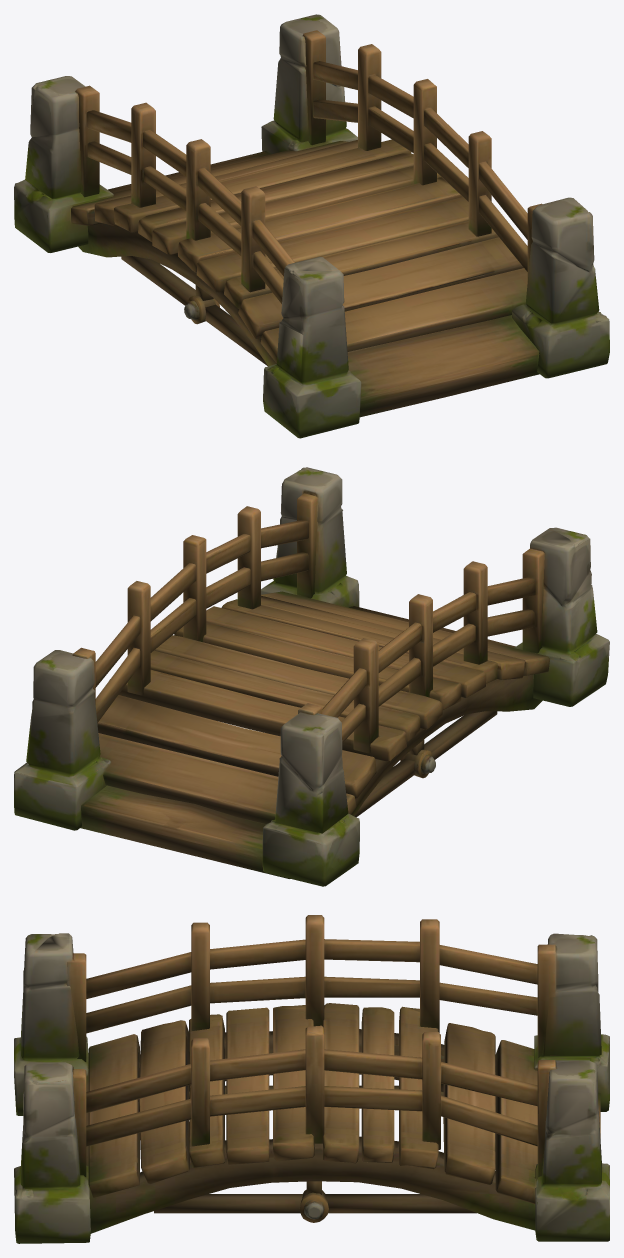
File: wooden_bridge.glb
3 views of the same model, one above another, from view 1: azimuth 30°, elevation 25°; view 2: azimuth 150°, elevation 25°; view 3: azimuth 270°, elevation 25° (orthographic). The views are drawn at different scales.
Parts seen in each view (by area): view 1: tripo_node_f0a4f724-75ee-4d4c-803a-e9e00652ff5d; view 2: tripo_node_f0a4f724-75ee-4d4c-803a-e9e00652ff5d; view 3: tripo_node_f0a4f724-75ee-4d4c-803a-e9e00652ff5d.
Boxes of the visible parts, x1,y1,x2,y2 form: tripo_node_f0a4f724-75ee-4d4c-803a-e9e00652ff5d: (14, 14, 609, 438); tripo_node_f0a4f724-75ee-4d4c-803a-e9e00652ff5d: (14, 467, 609, 886); tripo_node_f0a4f724-75ee-4d4c-803a-e9e00652ff5d: (14, 915, 609, 1243).
Size of the model in its own units: 0.6387 by 0.377 by 0.998.
Materials: 1 (1 with a texture image).
